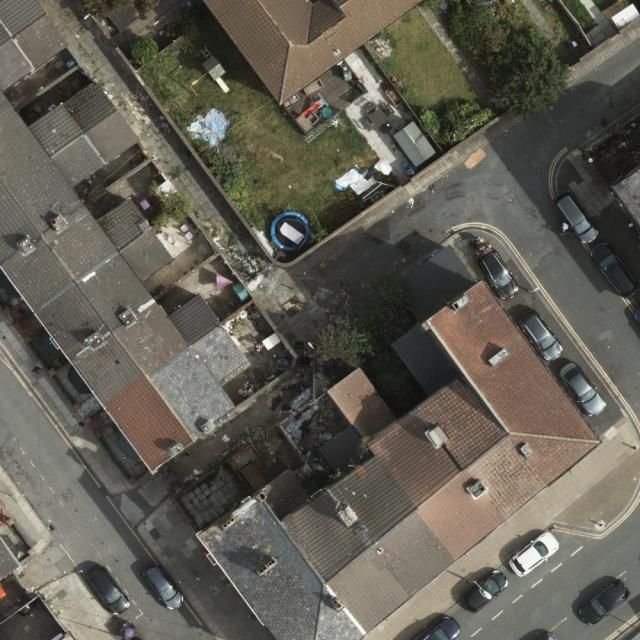roof: (197, 282, 603, 640), (0, 0, 251, 473), (202, 0, 424, 107)
